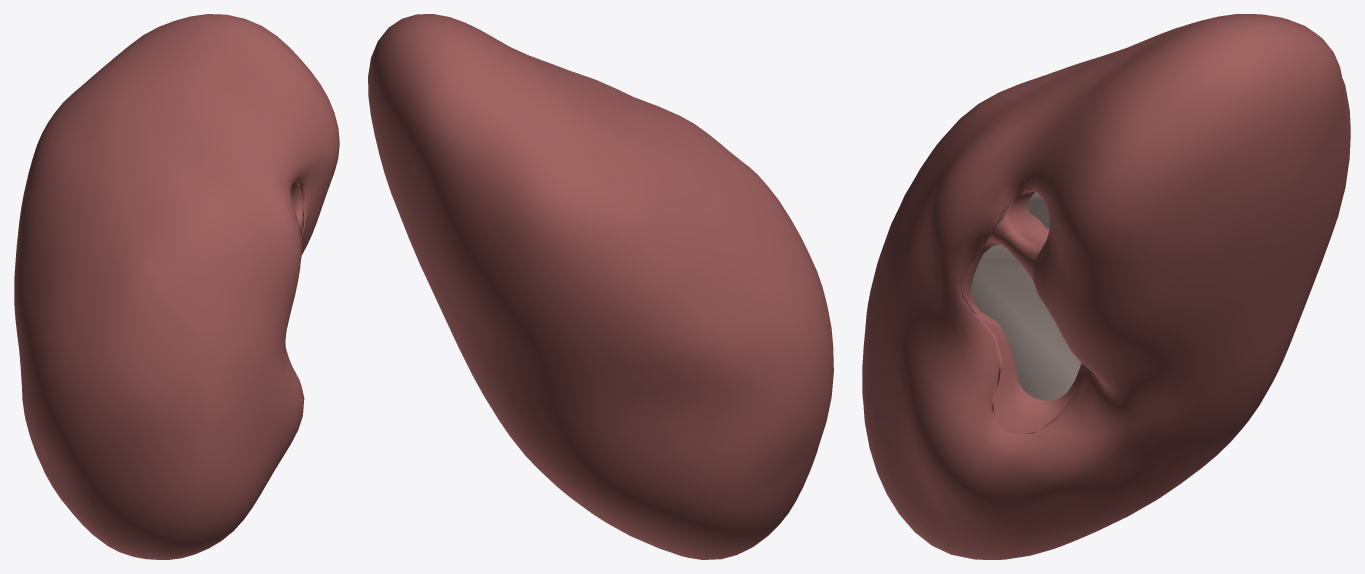
File: vh_f_kidney_r-80.glb
The picture shows the model from 3 angles, left to right: view 1: azimuth 30°, elevation 25°; view 2: azimuth 150°, elevation 25°; view 3: azimuth 270°, elevation 25°; orthographic projection. The views are drawn at different scales.
Parts seen in each view (by area): view 1: VH_F_kidney_capsule_R; view 2: VH_F_kidney_capsule_R; view 3: VH_F_kidney_capsule_R, VH_F_renal_column_R, VH_F_hilum_of_kidney_R.
Boxes of the visible parts, <box> form: VH_F_kidney_capsule_R: <box>14,14,339,559</box>; VH_F_kidney_capsule_R: <box>368,14,833,559</box>; VH_F_kidney_capsule_R: <box>862,14,1350,559</box>; VH_F_renal_column_R: <box>971,192,1081,400</box>; VH_F_hilum_of_kidney_R: <box>960,189,1086,434</box>.
Size of the model in its own units: 0.0734 by 0.0979 by 0.0695.
